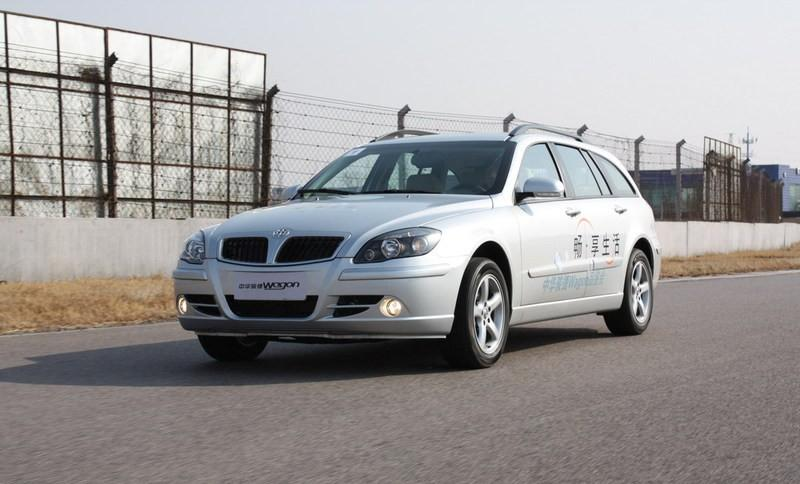Wagon: (170, 122, 665, 369)
